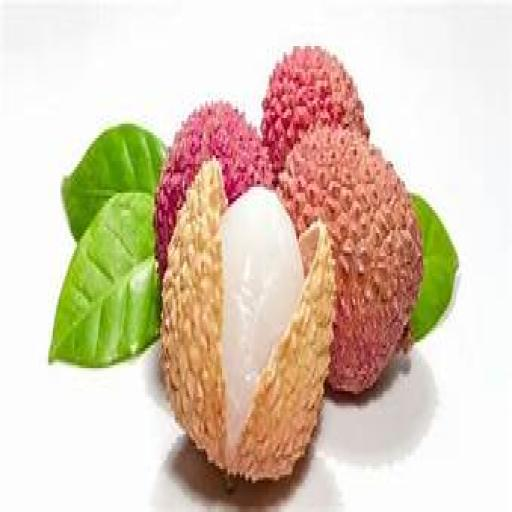lychee: (162, 162, 335, 480), (278, 127, 422, 394), (155, 101, 273, 276), (262, 47, 368, 172)
